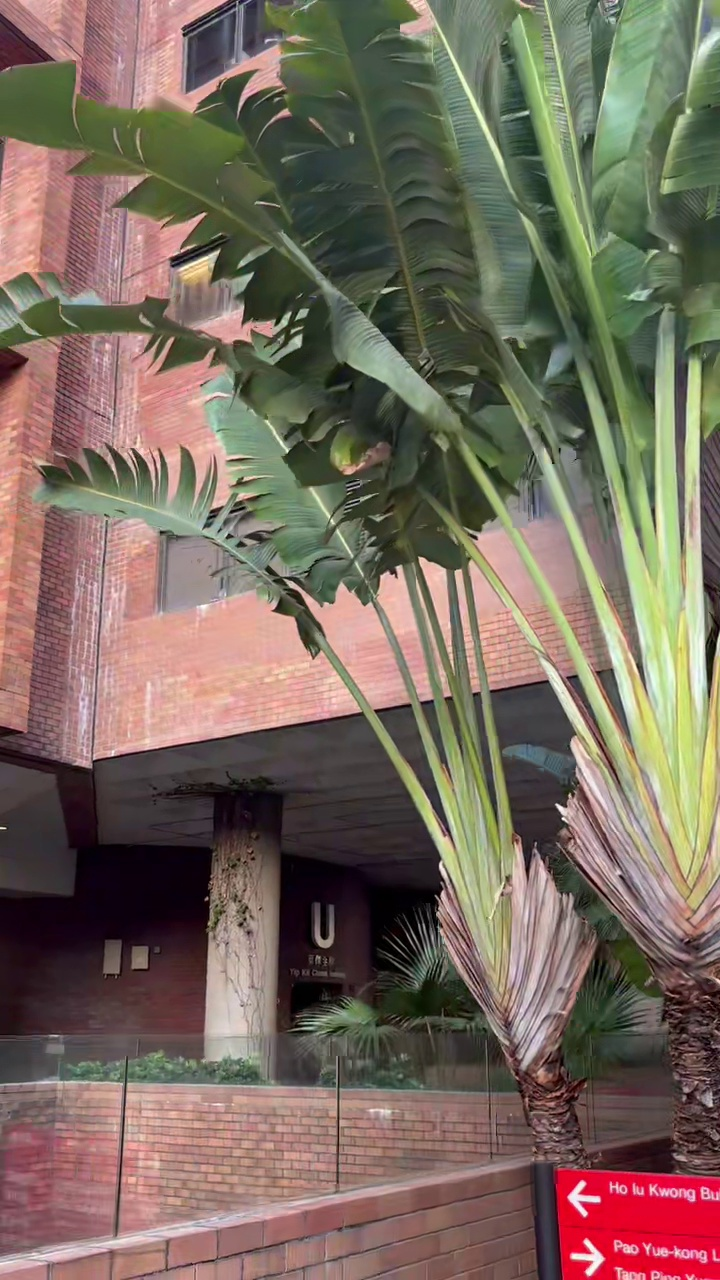Travellers-tree: (0, 0, 719, 1173)
